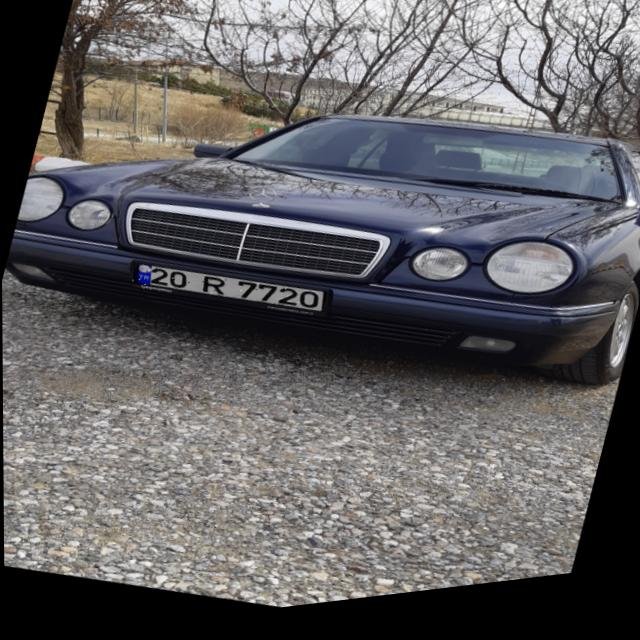plate: (131, 248, 327, 337)
